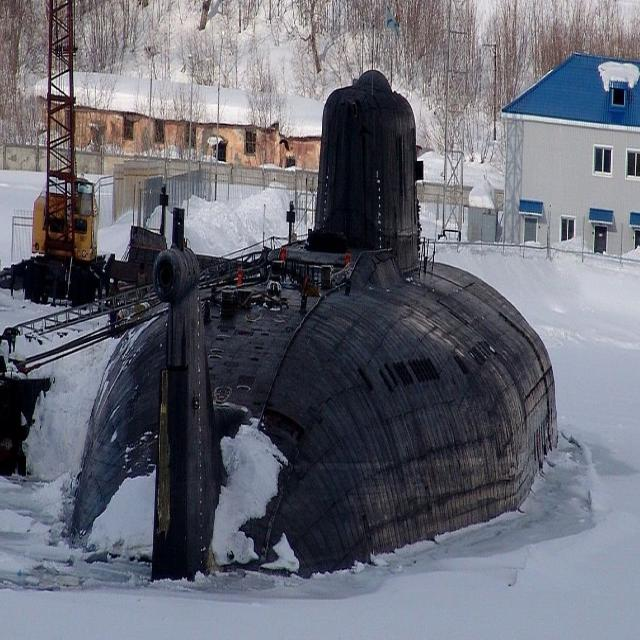submarine: (61, 61, 575, 587)
